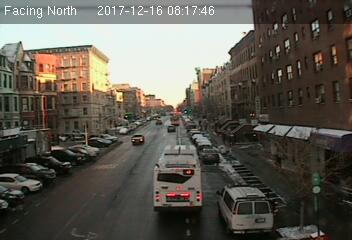bus: (151, 144, 205, 214)
car: (200, 148, 220, 163), (131, 133, 144, 143)
police: (215, 179, 276, 234)
